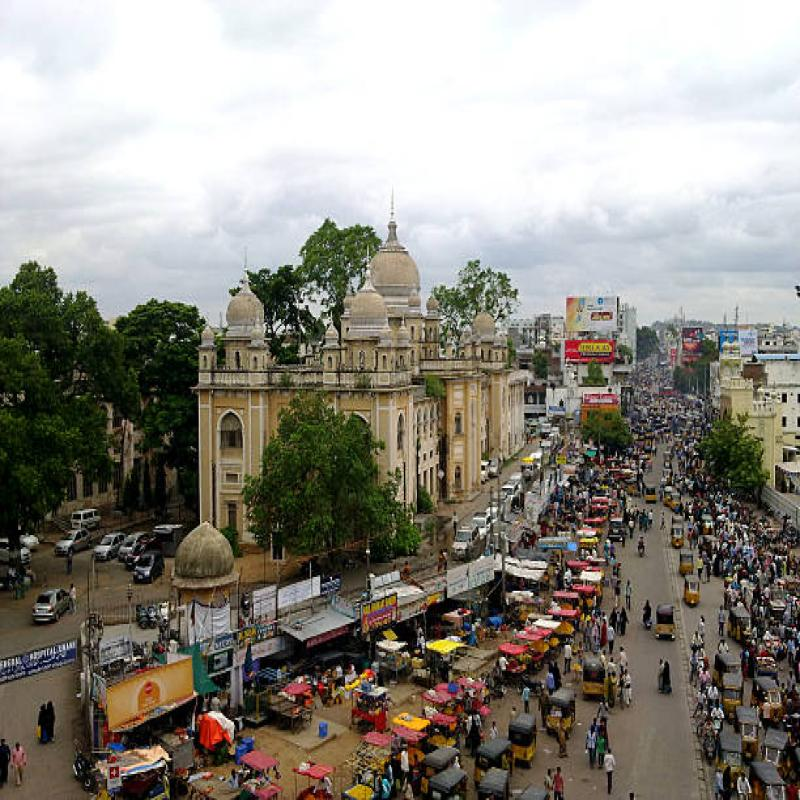auto: (506, 710, 544, 758), (588, 648, 614, 708), (651, 593, 679, 648)
